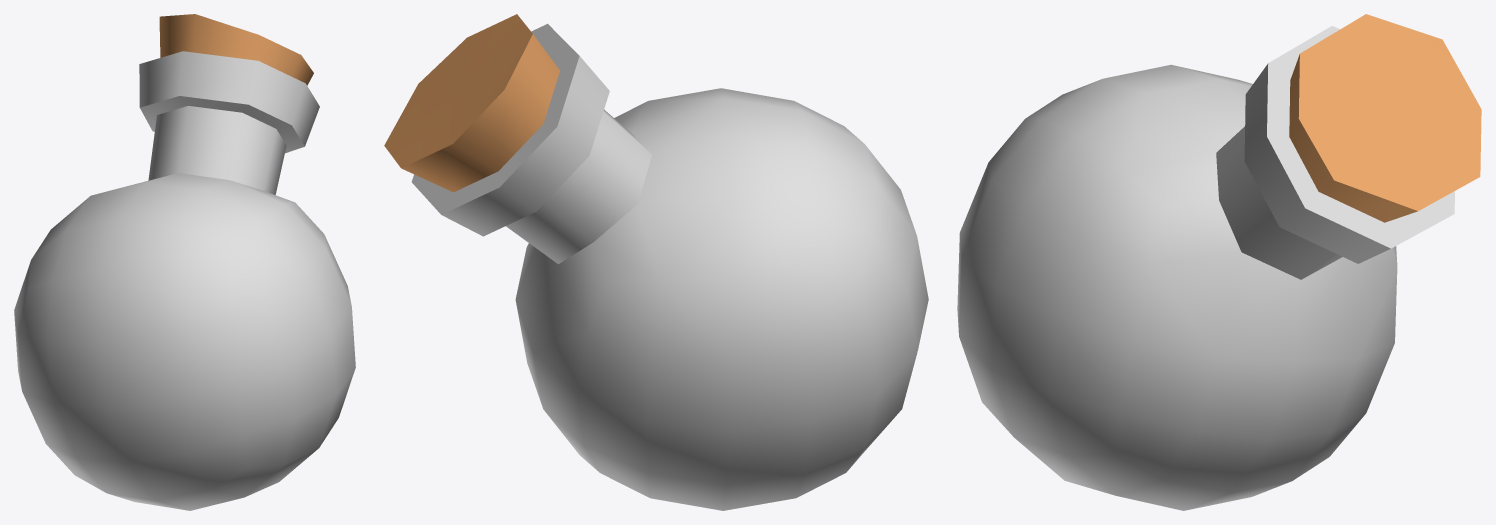
The model's file is bottle.fbx.
The picture shows the model from 3 angles, left to right: view 1: azimuth 30°, elevation 25°; view 2: azimuth 150°, elevation 25°; view 3: azimuth 270°, elevation 25°; orthographic projection. The views are drawn at different scales.
Parts seen in each view (by area): view 1: manabottle; view 2: manabottle; view 3: manabottle.
Part boxes in pixels (x1,y1,x2,y2): manabottle: [14, 14, 355, 510]; manabottle: [384, 14, 928, 510]; manabottle: [957, 14, 1481, 510].
Size of the model in its own units: 33.29 by 31.91 by 36.89.
